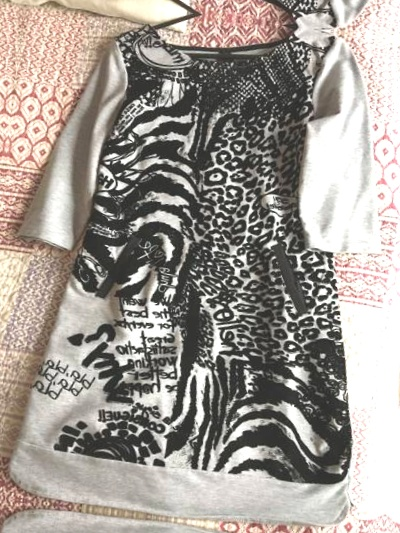Dress: (0, 4, 400, 533), (44, 0, 400, 32), (0, 504, 350, 533), (0, 0, 9, 482)
